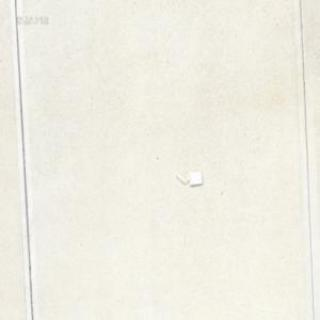LuggageTagtrack_idkeyframe: (174, 168, 202, 185)
